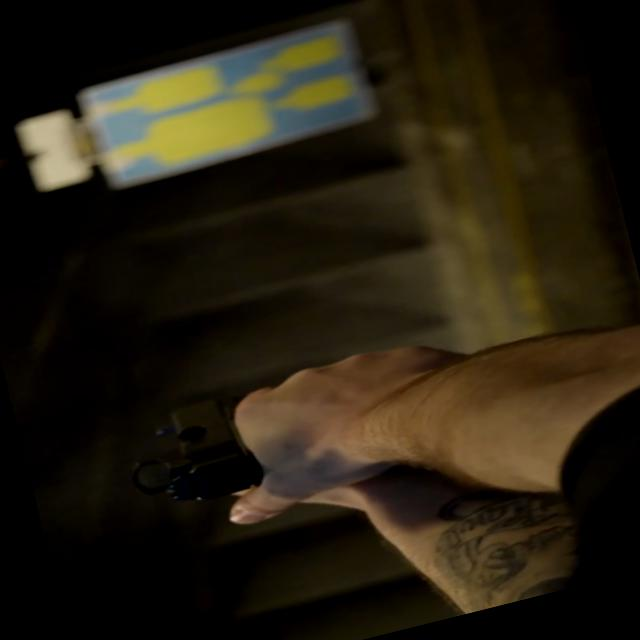handgun: (88, 330, 374, 531)
